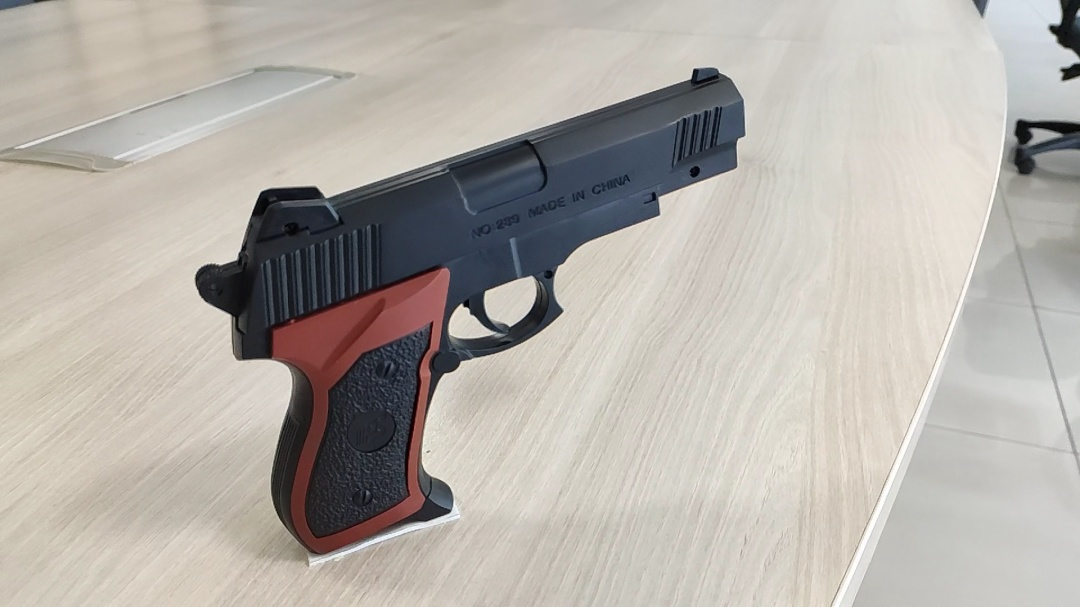gun: (193, 67, 749, 559)
